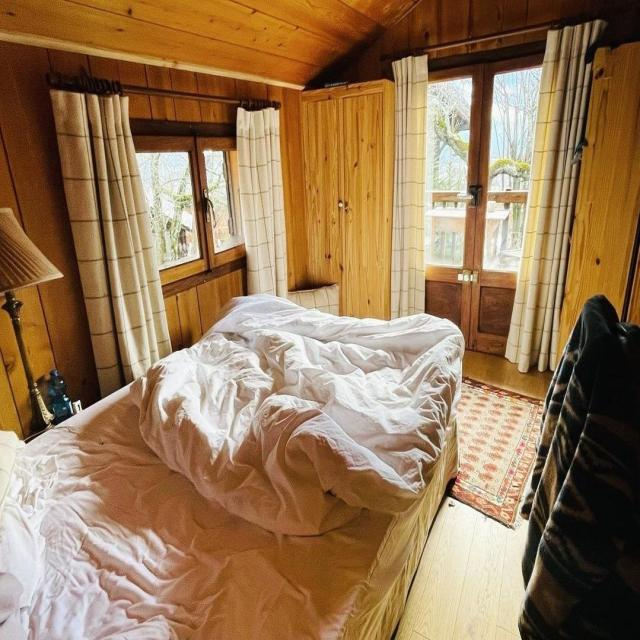bed: (0, 297, 463, 640)
